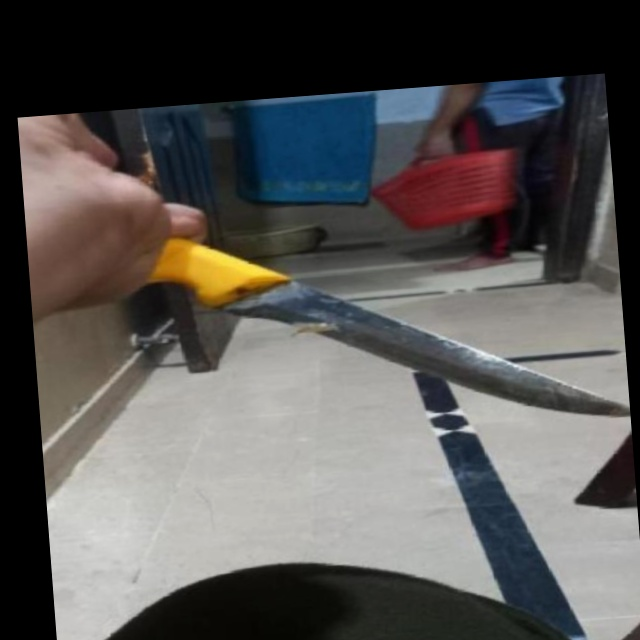Sharp-Object: (139, 204, 628, 452)
